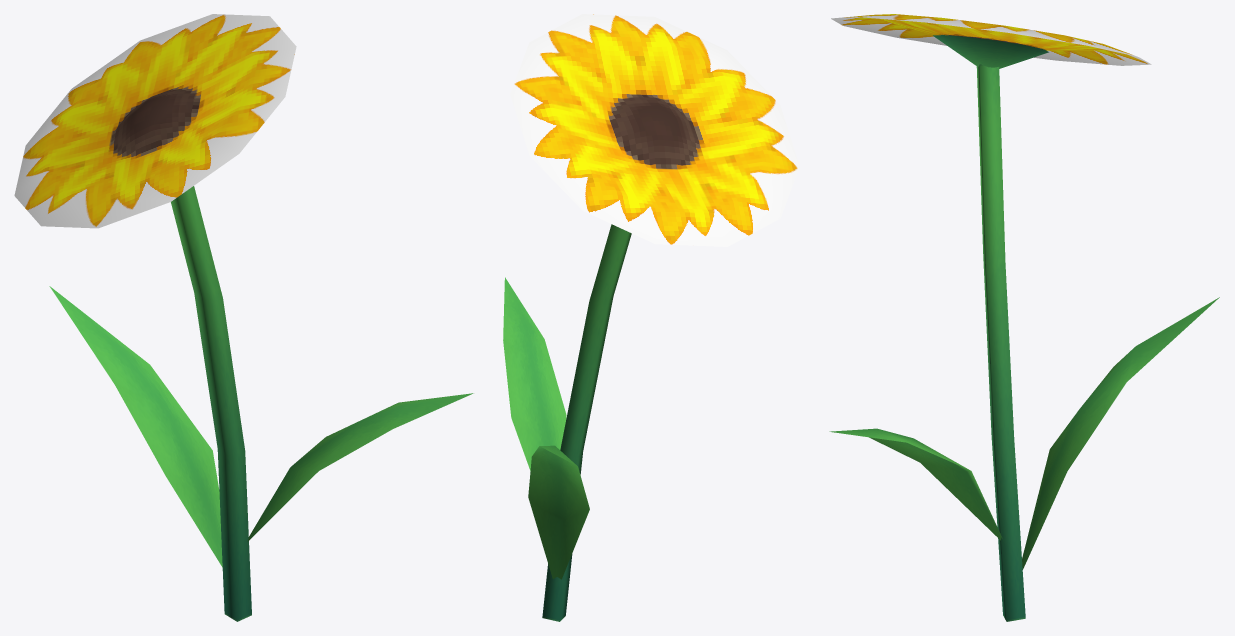
File: Flower_Sunflower_2.glb
3 views of the same model, side by side, from view 1: azimuth 30°, elevation 25°; view 2: azimuth 150°, elevation 25°; view 3: azimuth 270°, elevation 25° (orthographic). The views are drawn at different scales.
Parts seen in each view (by area): view 1: Cylinder.074_Cylinder.149, Cube.080_Cube.246, object6.055_object6.003, object6.057_object6.004; view 2: Cylinder.074_Cylinder.149, object6.057_object6.004, Cube.080_Cube.246, object6.055_object6.003; view 3: Cube.080_Cube.246, Cylinder.074_Cylinder.149, object6.055_object6.003, object6.057_object6.004, Cylinder.080_Cylinder.150.
Part boxes in pixels (box(x1,y1,x2,y2)): Cylinder.074_Cylinder.149: box(14, 14, 296, 228); Cube.080_Cube.246: box(171, 186, 251, 621); object6.055_object6.003: box(49, 286, 222, 567); object6.057_object6.004: box(247, 393, 473, 541); Cylinder.074_Cylinder.149: box(510, 14, 799, 246); object6.057_object6.004: box(503, 277, 566, 470); Cube.080_Cube.246: box(542, 224, 631, 621); object6.055_object6.003: box(528, 445, 589, 579); Cube.080_Cube.246: box(976, 64, 1025, 621); Cylinder.074_Cylinder.149: box(831, 14, 1151, 65); object6.055_object6.003: box(1022, 297, 1219, 569); object6.057_object6.004: box(829, 428, 1002, 540); Cylinder.080_Cylinder.150: box(933, 35, 1048, 68).
Bounding box in the file's own units: 0.4616 × 0.7305 × 0.4308.
3 materials, 3 textured.
